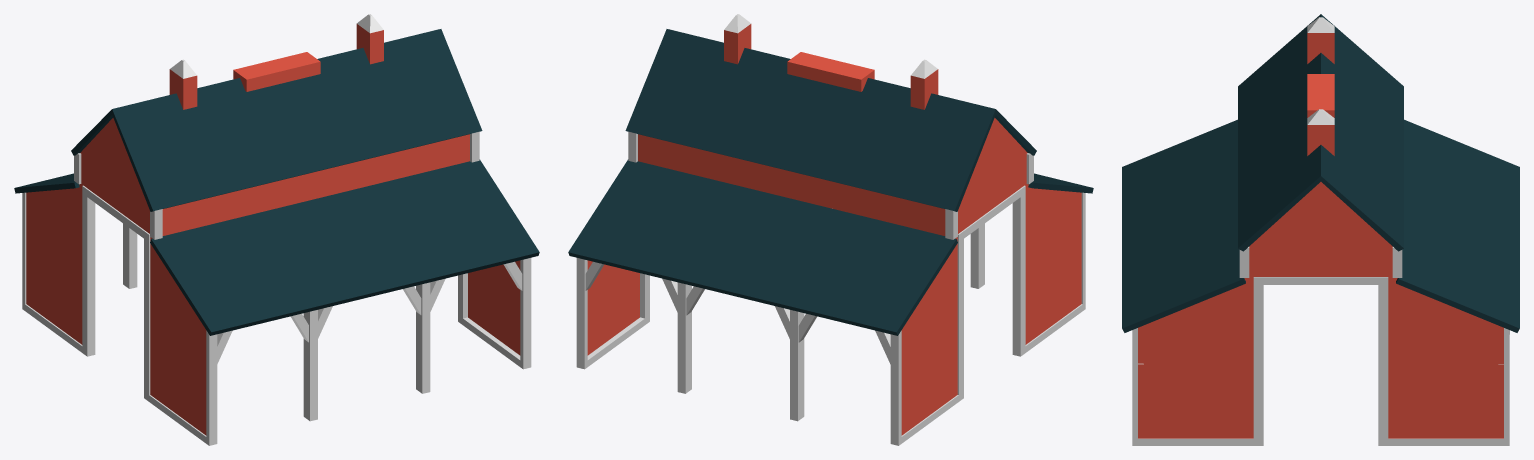
File: House_14.FBX
3 renders of one model, left to right at view 1: azimuth 30°, elevation 25°; view 2: azimuth 150°, elevation 25°; view 3: azimuth 270°, elevation 25°, orthographic.
Parts seen in each view (by area): view 1: House_14; view 2: House_14; view 3: House_14.
Boxes of the visible parts, x1,y1,x2,y2 form: House_14: [14, 14, 539, 445]; House_14: [568, 14, 1093, 445]; House_14: [1122, 14, 1519, 445].
Size of the model in its own units: 8.93 by 7.79 by 9.27.
1 material, 1 textured.
